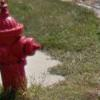Hydrant: (0, 0, 40, 94)
